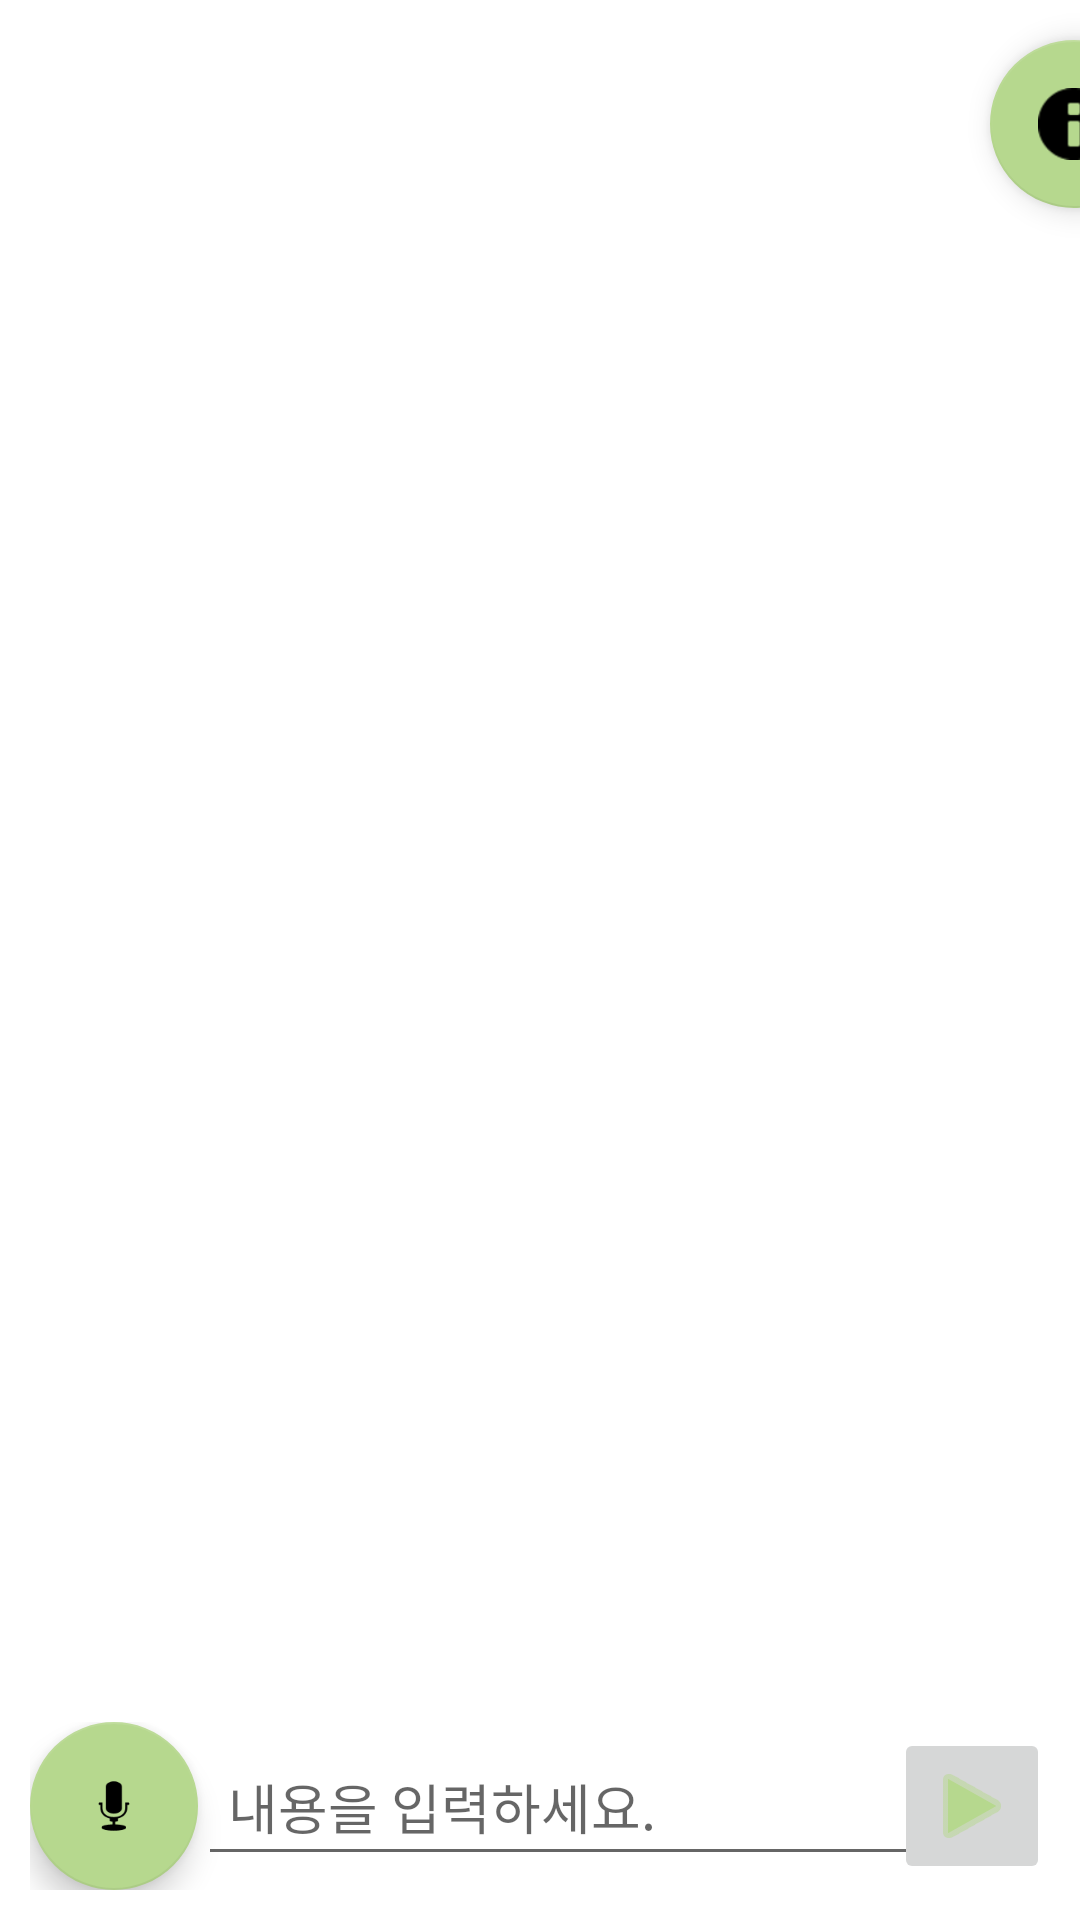

Locate icon controls on the screen. Image size 1080w x 1920h, boxes as bbox=[x1, y1, x2, y2].
play: bbox=[894, 1746, 1038, 1866]
speak now: bbox=[30, 1722, 198, 1890]
